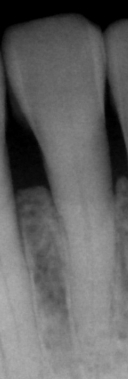tooth: (0, 14, 127, 378)
